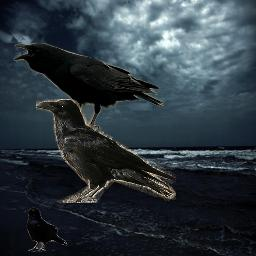Crow: (36, 99, 176, 203), (14, 43, 165, 131), (24, 207, 69, 252)
